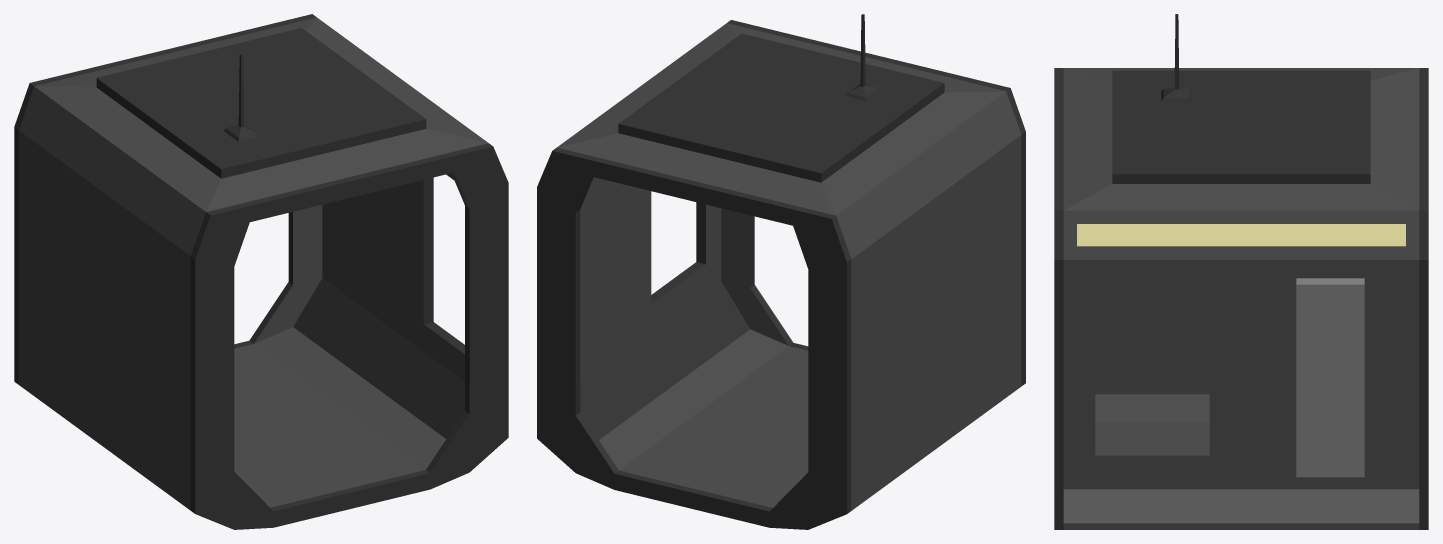
Rendered from Tile_6.fbx.
3 renders of one model, left to right at view 1: azimuth 30°, elevation 25°; view 2: azimuth 150°, elevation 25°; view 3: azimuth 270°, elevation 25°, orthographic. The views are drawn at different scales.
Parts seen in each view (by area): view 1: Tile6; view 2: Tile6; view 3: Tile6.
Boxes of the visible parts, <box> form: Tile6: <box>14,14,508,529</box>; Tile6: <box>537,14,1025,529</box>; Tile6: <box>1054,14,1428,529</box>.
Size of the model in its own units: 208 by 258 by 200.
